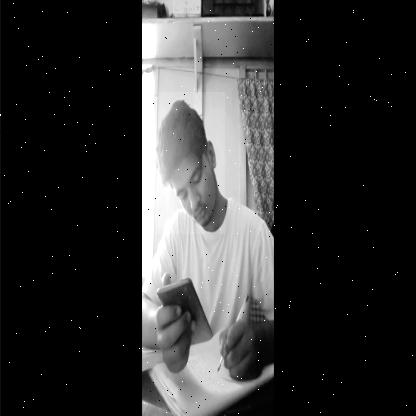Distracted: (158, 92, 225, 234)
